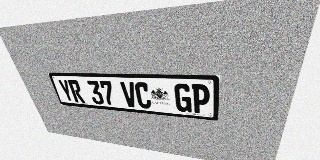3: (86, 80, 105, 105)
7: (98, 81, 117, 106)
C: (134, 82, 152, 109)
G: (174, 83, 192, 113)
P: (192, 84, 210, 114)
R: (67, 80, 85, 103)
V: (120, 82, 138, 108)
Y: (57, 79, 75, 102)
